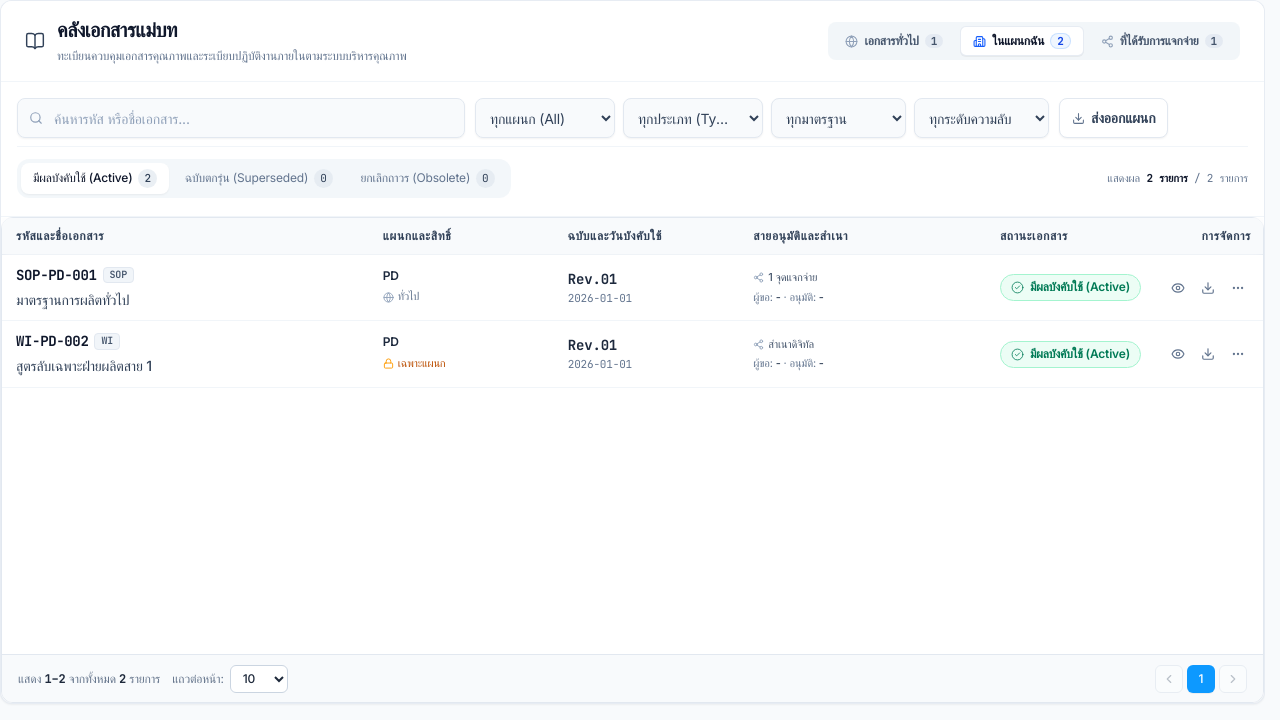
Test case: Library 3-Tier Tab Navigation & 4-Tier Access Scope Integration Tests › 2. Tab "เอกสารทั่วไป" displays other department GENERAL documents and hides own department and non-general tiers
Click the button "เอกสารทั่วไป 1". click: [894, 41]
box: [832,26,956,56]
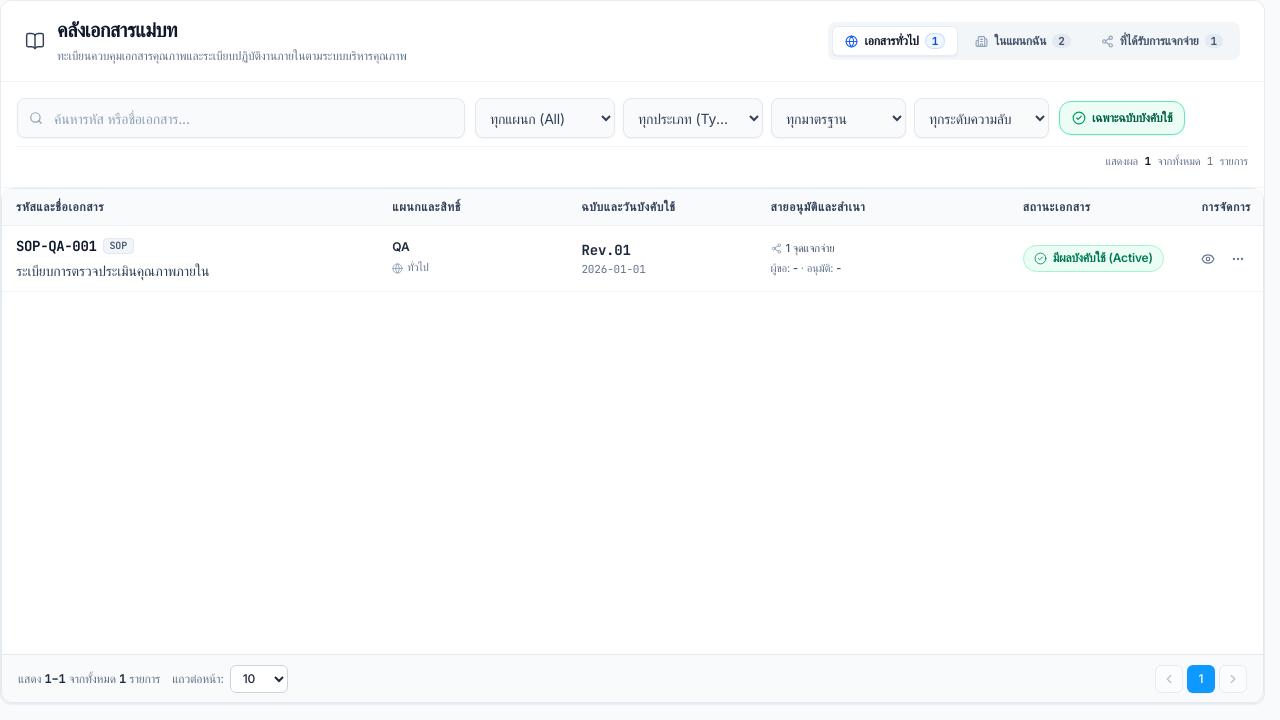
Now the text "SOP-PD-001" is gone
Now the text "SOP-QA-001" is shown, box [16,236,96,256]
Now the text "WI-PD-002" is gone
